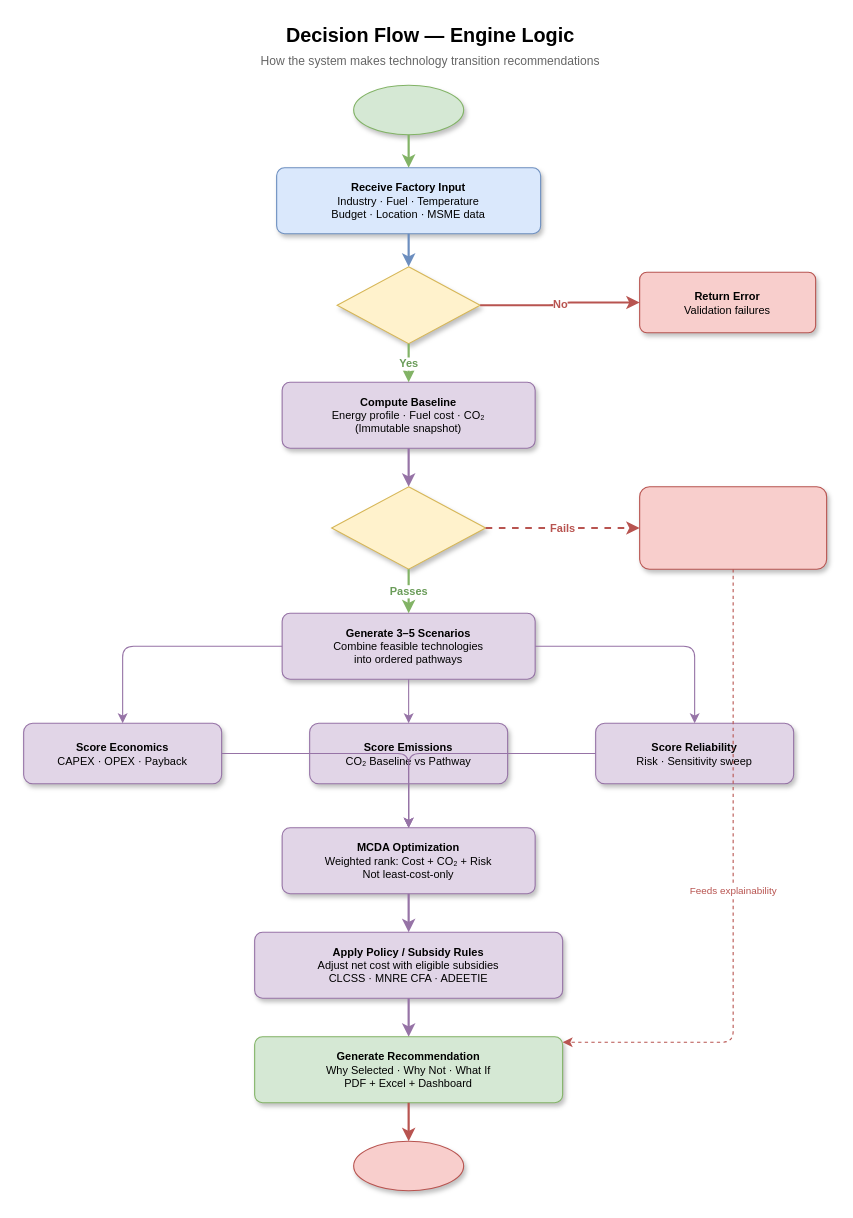
The diagram is 853 pixels wide and 1218 high, and some of its shapes have lost their labels. Each missing label, with the centre of its shape:
"Capture Why Not Temp exceeds range Budget insufficient Space unavailable" belongs at (x=733, y=529).
"END" belongs at (x=409, y=1167).
"Input Valid?" belongs at (x=409, y=306).
"START" belongs at (x=409, y=111).
"Technology Feasible?" belongs at (x=409, y=529).
